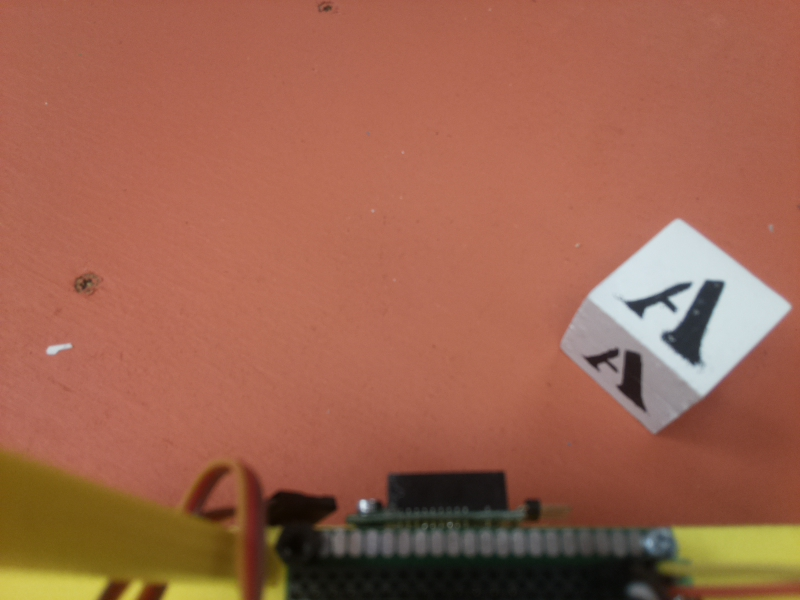blockA: (557, 220, 791, 446)
